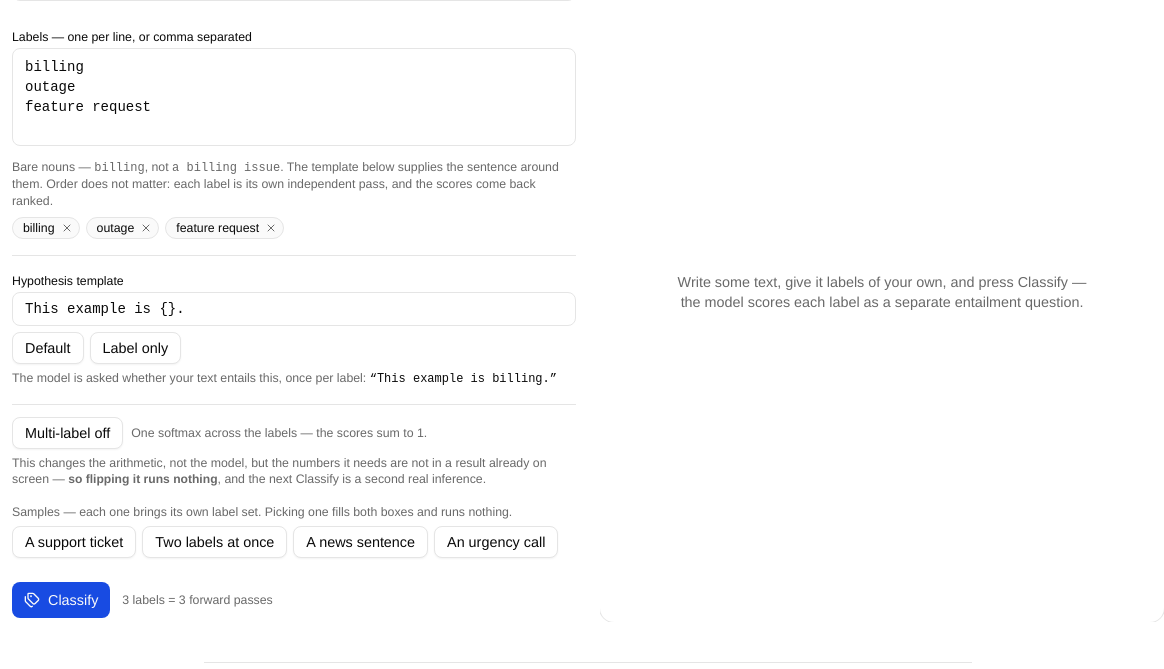
Scenario: ZeroShotClassificationPage › refuses a template with no placeholder rather than scoring nonsense
(page scrolled)
Replace the text in the field labelled "Hypothesis template" with "This is about money.": {"x": 294, "y": 309} [12,292,576,326]
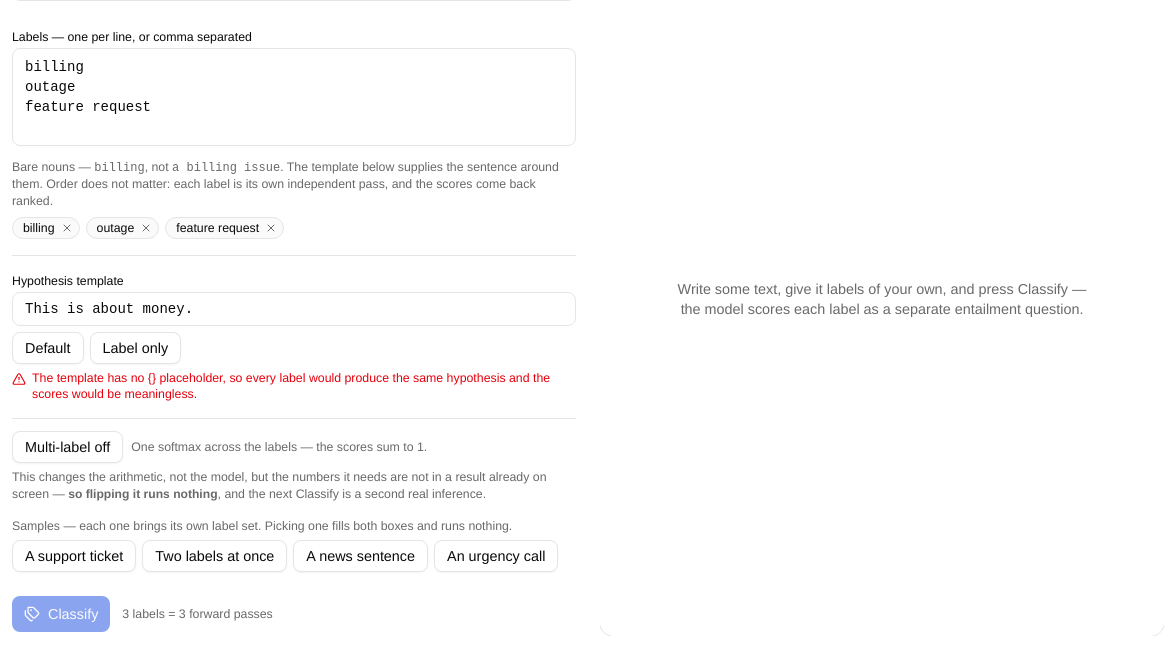
Expected: the message with test id "template-problem" is shown, [12,370,576,402]
Expected: the text with test id "composed-hypothesis" is gone
Expected: the button "Classify" is disabled, [12,596,110,632]
